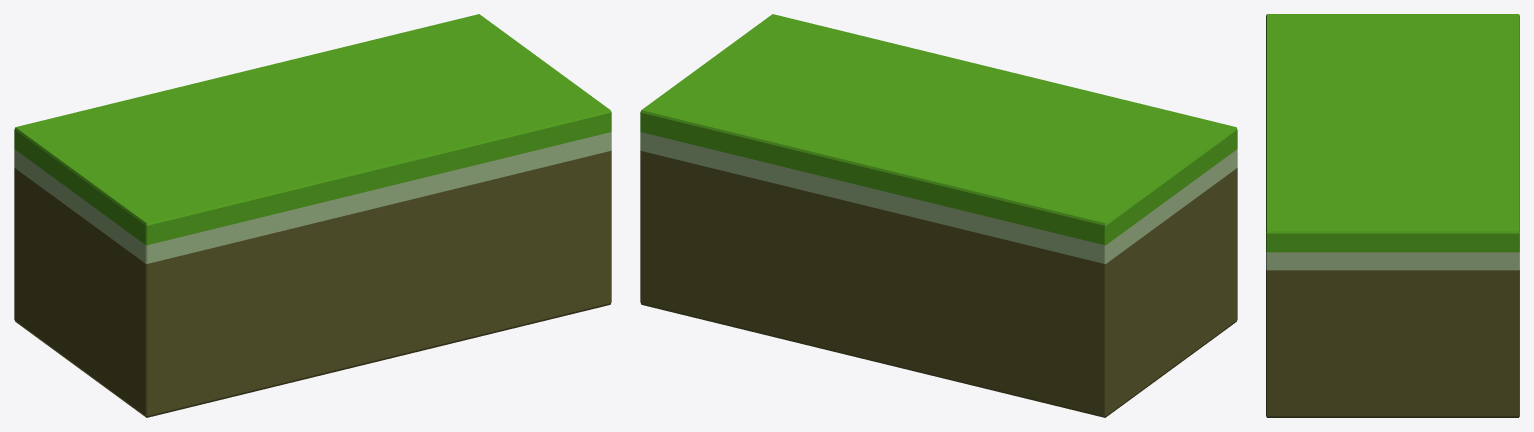
File: Isl_17_Base_3.fbx
3 renders of one model, left to right at view 1: azimuth 30°, elevation 25°; view 2: azimuth 150°, elevation 25°; view 3: azimuth 270°, elevation 25°, orthographic. The views are drawn at different scales.
Visible parts, largest first — view 1: Isl_17_Base_3; view 2: Isl_17_Base_3; view 3: Isl_17_Base_3.
Boxes of the visible parts, x1,y1,x2,y2 form: Isl_17_Base_3: [14, 14, 611, 417]; Isl_17_Base_3: [640, 14, 1237, 417]; Isl_17_Base_3: [1266, 14, 1519, 417].
Size of the model in its own units: 590 by 290 by 236.
1 material, 1 textured.
